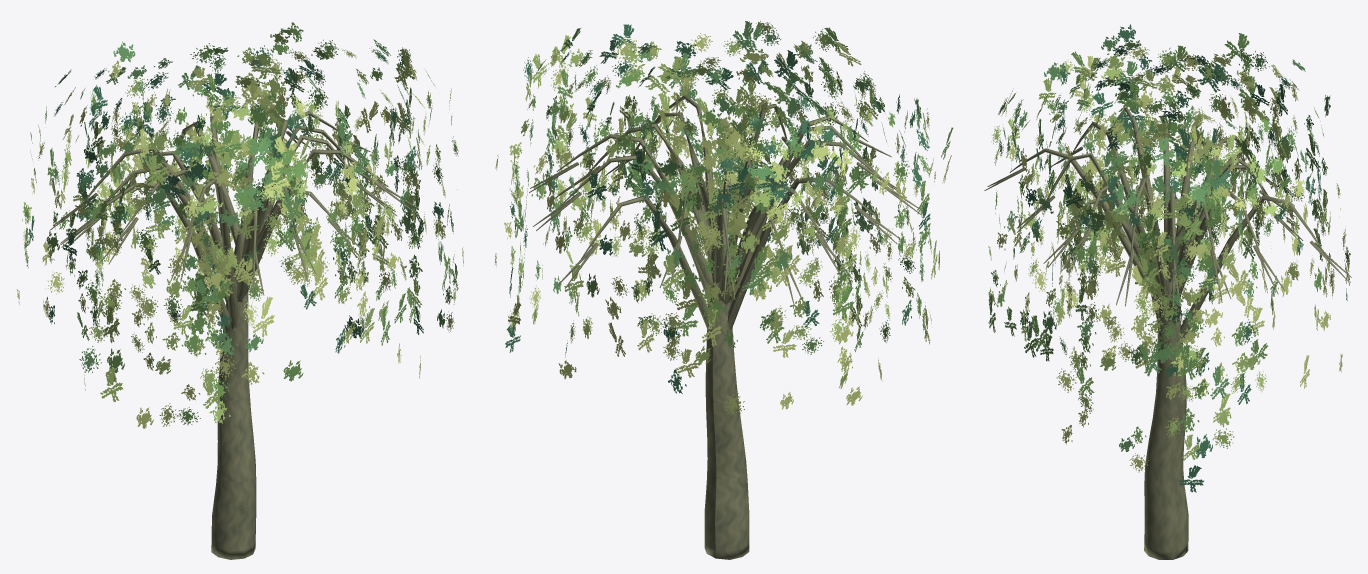
The model's file is Tree_Willow_01_Weeping_LOD1.glb.
The picture shows the model from 3 angles, left to right: view 1: azimuth 30°, elevation 25°; view 2: azimuth 150°, elevation 25°; view 3: azimuth 270°, elevation 25°; orthographic projection. The views are drawn at different scales.
Parts seen in each view (by area): view 1: Tree_Willow_01_Weeping_LOD1; view 2: Tree_Willow_01_Weeping_LOD1; view 3: Tree_Willow_01_Weeping_LOD1.
Boxes of the visible parts, <box> form: Tree_Willow_01_Weeping_LOD1: <box>16,22,463,559</box>; Tree_Willow_01_Weeping_LOD1: <box>494,21,953,559</box>; Tree_Willow_01_Weeping_LOD1: <box>984,24,1351,559</box>.
Bounding box in the file's own units: 7.58 × 8.61 × 6.19.
2 materials, 2 textured.
